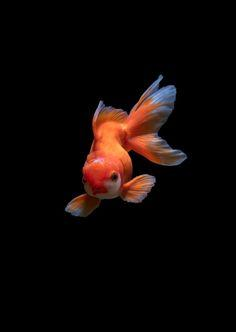goldfish: (58, 79, 190, 225)
